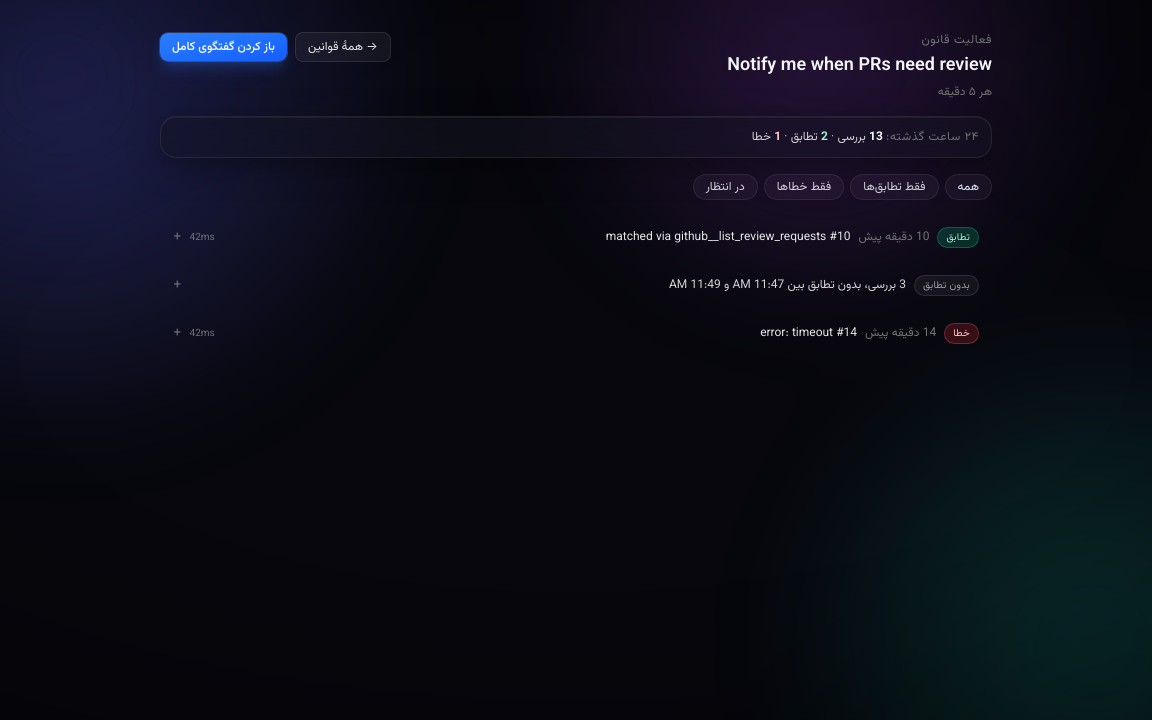
it: RuleActivity page › auto-groups consecutive no-match rows and expands to show timestamps
Click the button "بدون تطابق 3 بررسی، بدون تطابق بین 11:47 AM و 11:49 AM +".
click(947, 285)  # box [173,273,979,297]
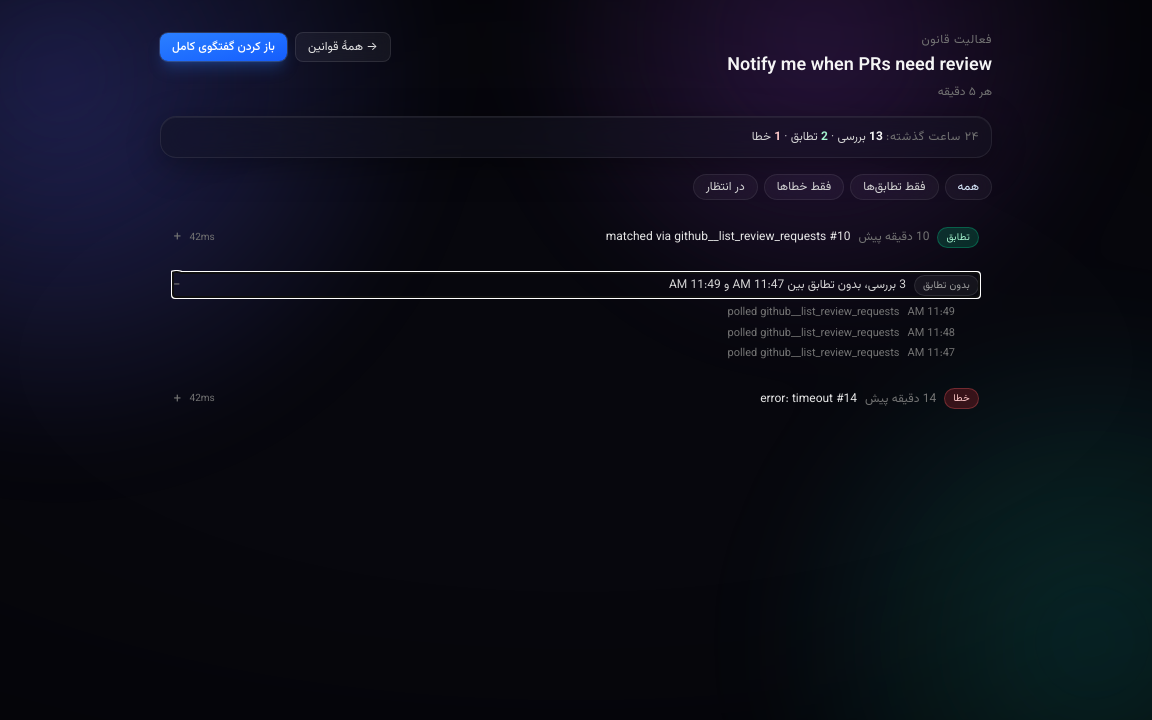
Expected: the list with test id "firing-no-match-group-list" is shown, [728,304,955,362]
